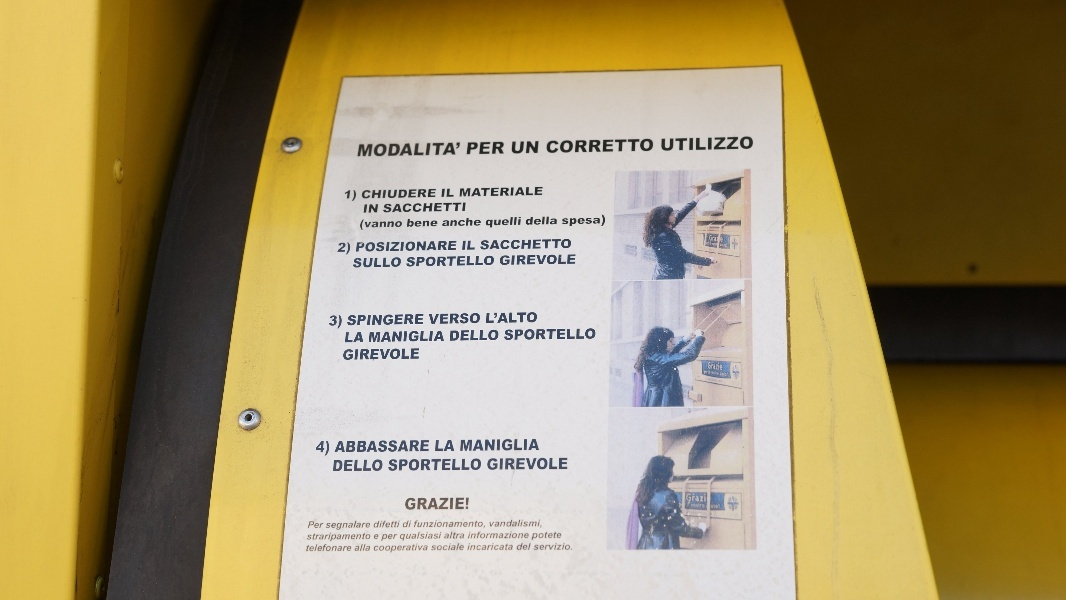text: (673, 135, 688, 155), (689, 135, 704, 155), (705, 135, 720, 155), (721, 135, 736, 155), (737, 135, 752, 155), (369, 140, 384, 159), (385, 140, 400, 159), (401, 140, 416, 159), (417, 140, 432, 159), (433, 140, 448, 159), (449, 140, 464, 159), (465, 140, 480, 159), (481, 140, 496, 159), (513, 139, 528, 157), (561, 138, 576, 155), (577, 138, 592, 155), (593, 138, 608, 155), (609, 138, 624, 155), (625, 138, 640, 155), (660, 135, 672, 155), (641, 138, 655, 155), (529, 139, 542, 157), (417, 497, 432, 512), (433, 497, 448, 512), (449, 497, 464, 512), (338, 240, 352, 256), (577, 214, 592, 228), (369, 240, 384, 254), (385, 240, 400, 254), (401, 240, 416, 254), (417, 240, 432, 254), (433, 240, 448, 254), (417, 254, 432, 268), (433, 254, 448, 268), (449, 254, 464, 268), (465, 254, 480, 268), (353, 313, 368, 327), (369, 313, 384, 327), (385, 313, 400, 327), (401, 313, 416, 327), (497, 311, 512, 325), (513, 311, 528, 325), (369, 330, 384, 344), (385, 330, 400, 344), (401, 330, 416, 344), (417, 330, 432, 344), (353, 347, 368, 361), (369, 347, 384, 361), (385, 347, 400, 361), (401, 347, 416, 361), (465, 329, 480, 343), (481, 329, 496, 343), (337, 439, 352, 453), (353, 439, 368, 453), (369, 439, 384, 453), (385, 439, 400, 453), (401, 439, 416, 453), (337, 459, 352, 473), (353, 459, 368, 473), (369, 459, 384, 473), (401, 458, 416, 472), (417, 458, 432, 472), (433, 458, 448, 472), (449, 458, 464, 472), (465, 458, 480, 472), (497, 457, 512, 471), (513, 457, 528, 471), (529, 457, 544, 471), (545, 457, 560, 471), (357, 140, 368, 159), (561, 254, 577, 267), (465, 312, 481, 325), (548, 138, 560, 155), (562, 214, 576, 228), (481, 254, 495, 268), (450, 329, 464, 343), (417, 439, 431, 453), (369, 188, 384, 201), (385, 188, 400, 201), (401, 188, 416, 201), (417, 188, 432, 201), (465, 186, 480, 199), (481, 186, 496, 199), (497, 186, 512, 199), (513, 186, 528, 199), (529, 186, 544, 199), (369, 219, 384, 232), (385, 219, 400, 232), (497, 216, 512, 229), (481, 238, 496, 251), (497, 238, 512, 251), (513, 238, 528, 251), (529, 238, 544, 251), (545, 238, 560, 251), (513, 254, 528, 267), (529, 254, 544, 267), (545, 254, 560, 267), (433, 312, 448, 325), (449, 312, 464, 325), (513, 328, 528, 341), (529, 328, 544, 341), (545, 328, 560, 341), (561, 328, 576, 341), (577, 328, 592, 341), (465, 439, 480, 452), (481, 439, 496, 452), (497, 439, 512, 452), (513, 439, 528, 452), (497, 140, 507, 159), (593, 214, 606, 228), (385, 202, 400, 214), (401, 202, 416, 214), (417, 202, 432, 214), (433, 202, 448, 214), (449, 202, 464, 214), (369, 257, 384, 269), (385, 257, 400, 269), (401, 531, 416, 543), (417, 531, 432, 543), (356, 240, 368, 254), (354, 257, 368, 269), (433, 330, 445, 344), (436, 439, 448, 453), (417, 218, 432, 229), (449, 217, 464, 228), (465, 217, 480, 228), (529, 215, 544, 226), (321, 532, 336, 543), (337, 532, 352, 543), (353, 532, 368, 543), (385, 543, 400, 554), (401, 543, 416, 554), (545, 531, 560, 542), (321, 439, 330, 457), (484, 216, 496, 229), (561, 238, 573, 251), (500, 254, 512, 267), (353, 331, 365, 344), (529, 439, 541, 452), (406, 497, 416, 512), (337, 521, 352, 531), (353, 521, 368, 531), (417, 519, 432, 529), (433, 519, 448, 529), (449, 519, 464, 529), (465, 519, 480, 529), (497, 519, 512, 529), (513, 519, 528, 529), (529, 519, 544, 529), (433, 542, 448, 552), (449, 542, 464, 552), (481, 531, 496, 541), (497, 531, 512, 541), (513, 531, 528, 541), (545, 542, 560, 552), (369, 203, 381, 215), (337, 544, 353, 553), (545, 215, 558, 226), (449, 240, 459, 254), (486, 311, 496, 325), (390, 458, 400, 472), (385, 520, 400, 529), (321, 544, 336, 553), (449, 531, 464, 540), (481, 543, 496, 552), (497, 543, 512, 552), (308, 532, 320, 543), (433, 531, 444, 543), (417, 543, 429, 554), (513, 216, 523, 229), (355, 543, 368, 553), (561, 542, 574, 552), (465, 241, 478, 251), (529, 311, 538, 325), (343, 347, 352, 361), (385, 533, 399, 542), (533, 531, 544, 542), (329, 314, 336, 331), (403, 519, 416, 528), (307, 544, 320, 553), (408, 254, 416, 268), (417, 313, 425, 327), (449, 439, 457, 453), (488, 457, 496, 471), (561, 457, 569, 471), (374, 543, 384, 554), (469, 531, 480, 541), (468, 543, 480, 552), (360, 219, 368, 232), (337, 314, 343, 331), (407, 218, 416, 229), (345, 189, 352, 203), (505, 328, 512, 341), (518, 542, 528, 551), (535, 542, 544, 552), (309, 521, 320, 529), (375, 520, 384, 529), (328, 521, 336, 531), (433, 188, 439, 201), (346, 331, 352, 344), (441, 188, 448, 199), (449, 188, 456, 199), (433, 218, 440, 229), (465, 497, 470, 512), (362, 203, 368, 215), (353, 189, 358, 203), (489, 519, 496, 529), (374, 533, 384, 540), (363, 188, 368, 201), (459, 439, 464, 452), (481, 519, 487, 529), (348, 313, 352, 327), (417, 347, 421, 361), (332, 459, 336, 473), (443, 217, 448, 228), (317, 439, 320, 457), (460, 186, 464, 199), (428, 312, 432, 325), (593, 328, 597, 341), (465, 202, 469, 214), (369, 532, 373, 543), (497, 329, 500, 343), (753, 135, 755, 155), (401, 219, 404, 232), (510, 139, 512, 157), (561, 531, 564, 542), (321, 521, 325, 529), (369, 521, 372, 531), (369, 543, 372, 553), (445, 531, 448, 540), (529, 542, 532, 551), (513, 543, 515, 552), (481, 458, 482, 472), (545, 186, 546, 199), (383, 202, 384, 214), (401, 257, 402, 269), (481, 217, 482, 228), (527, 215, 528, 226), (415, 519, 416, 529), (431, 542, 432, 552), (465, 542, 466, 552), (529, 531, 530, 541), (401, 520, 402, 529), (383, 533, 384, 542), (465, 531, 466, 540)
